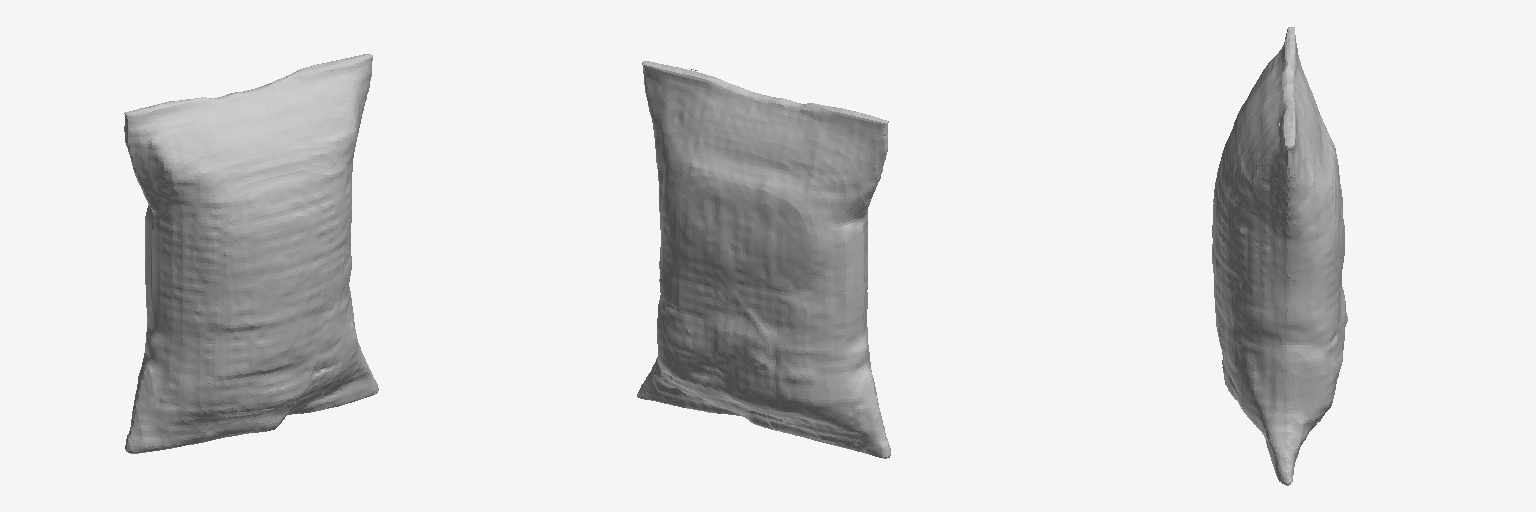
Rendered from chipsA.obj.
3 views of the same model, side by side, from view 1: azimuth 30°, elevation 25°; view 2: azimuth 150°, elevation 25°; view 3: azimuth 270°, elevation 25° (orthographic).
Bounding box in the file's own units: 1.52 × 1.97 × 0.7116.